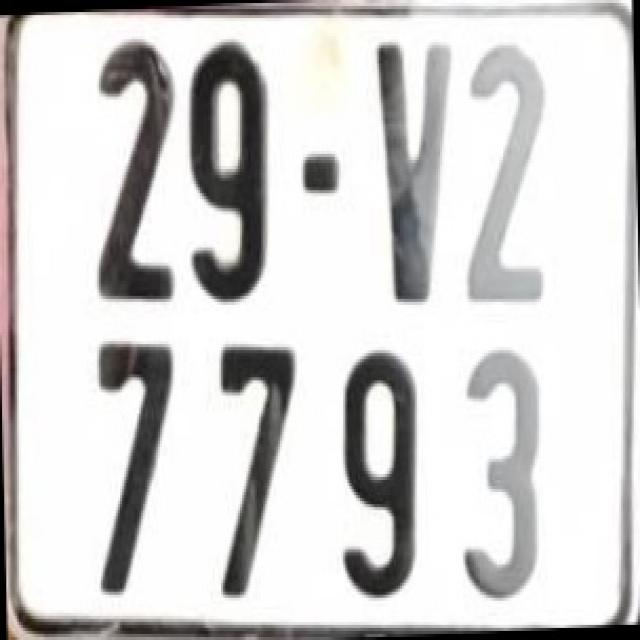2: (463, 36, 552, 308), (90, 36, 179, 305)
3: (459, 341, 545, 601)
7: (210, 335, 299, 601), (90, 335, 174, 598)
9: (185, 36, 274, 302), (335, 344, 421, 598)
V: (368, 33, 455, 302)
